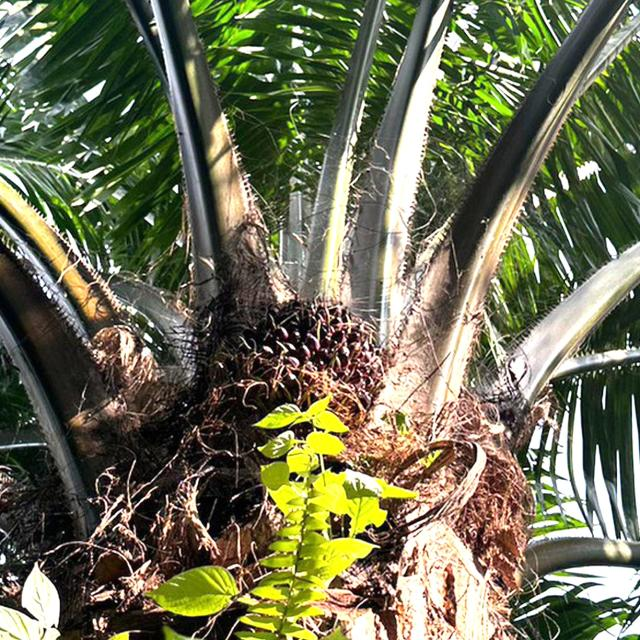unripe: (212, 283, 400, 505)
